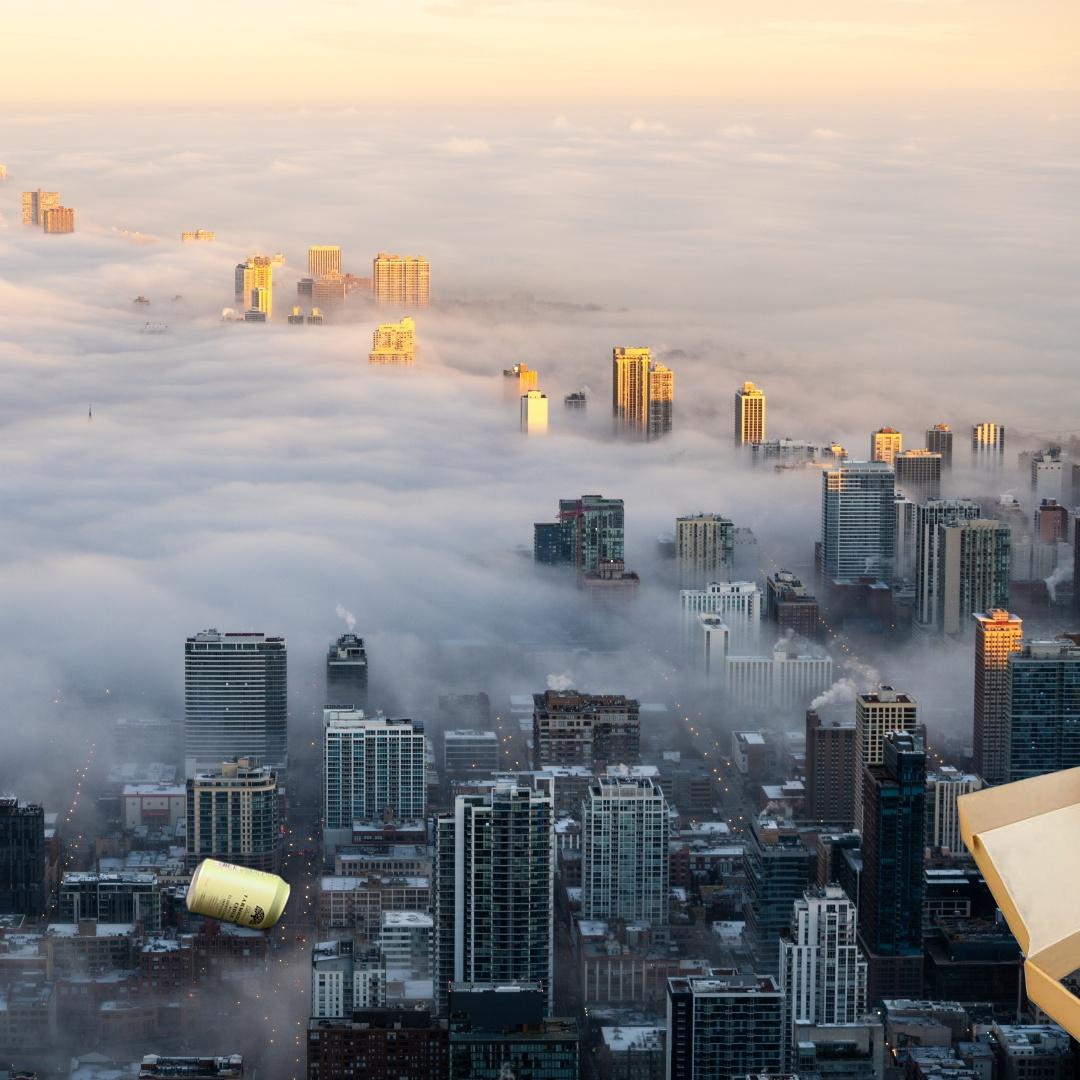metal-cans: (181, 851, 295, 939)
trashbox-cardboard: (954, 762, 1080, 1080)
